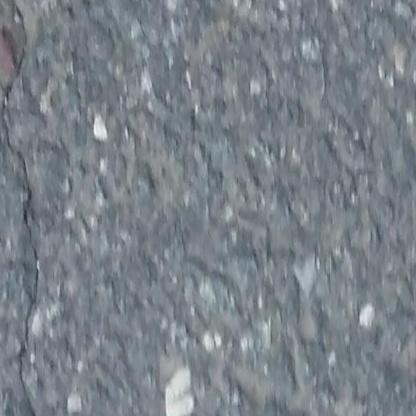Cracks: (0, 0, 47, 416)
